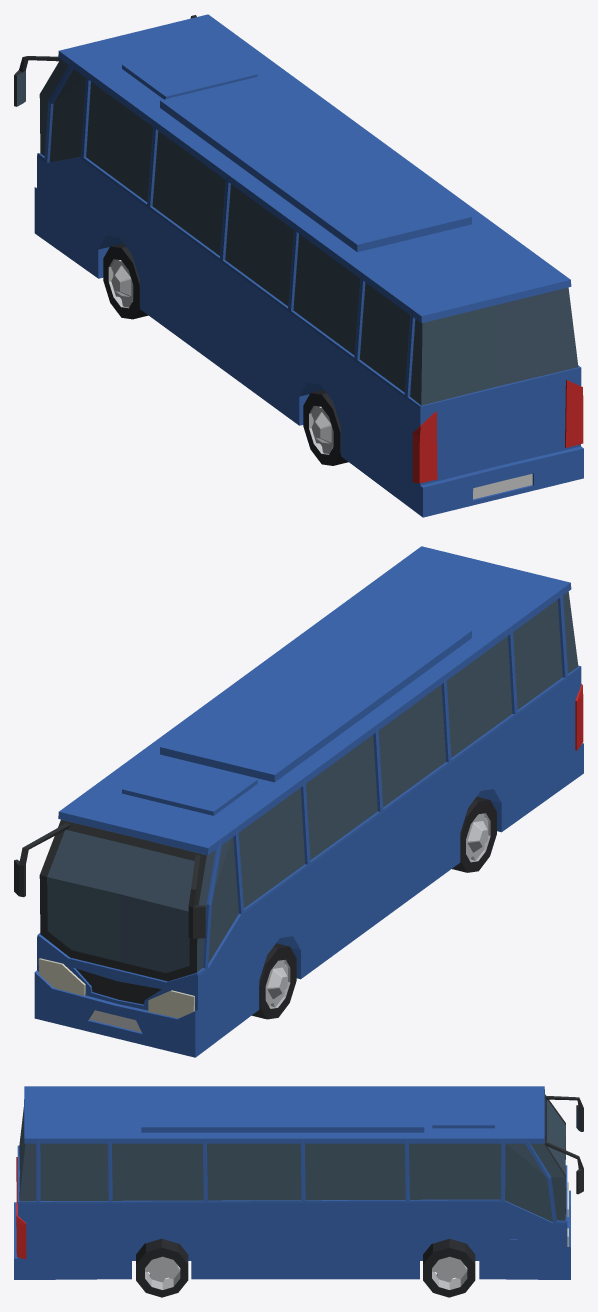
Rendered from bus.glb.
3 renders of one model, top to bottom at view 1: azimuth 30°, elevation 25°; view 2: azimuth 150°, elevation 25°; view 3: azimuth 270°, elevation 25°, orthographic. The views are drawn at different scales.
Visible parts, largest first — view 1: Body, Wheel_RL, Wheel_FL; view 2: Body, Wheel_FL, Wheel_RL; view 3: Body, Wheel_FR, Wheel_RR.
Boxes of the visible parts, x1,y1,x2,y2 form: Body: (14, 14, 583, 517); Wheel_RL: (303, 390, 348, 465); Wheel_FL: (103, 243, 148, 319); Body: (14, 546, 583, 1057); Wheel_FL: (252, 943, 296, 1019); Wheel_RL: (452, 796, 496, 872); Body: (14, 1086, 583, 1279); Wheel_FR: (423, 1238, 475, 1297); Wheel_RR: (136, 1238, 188, 1297).
Size of the model in its own units: 3.81 by 4.27 by 13.7.
